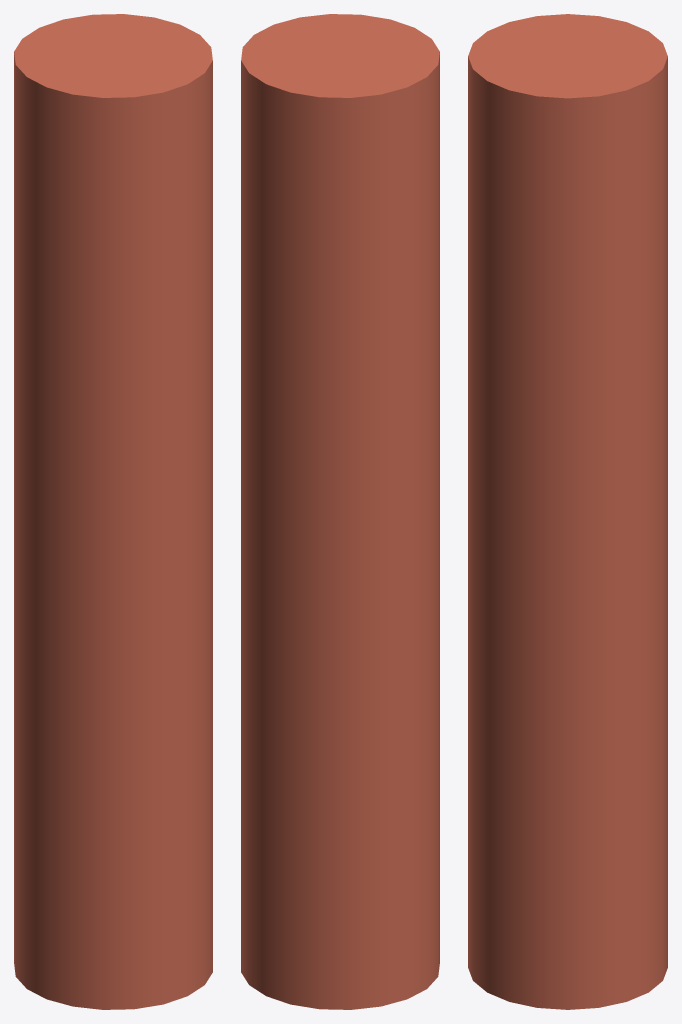
Rendered from CylinderTall.fbx.
3 renders of one model, left to right at view 1: azimuth 30°, elevation 25°; view 2: azimuth 150°, elevation 25°; view 3: azimuth 270°, elevation 25°, orthographic.
Parts seen in each view (by area): view 1: CylinderTall; view 2: CylinderTall; view 3: CylinderTall.
Part boxes in pixels (<box>): CylinderTall: <box>14,14,212,1009</box>; CylinderTall: <box>241,14,439,1009</box>; CylinderTall: <box>468,14,667,1009</box>.
Size of the model in its own units: 20.19 by 102 by 20.19.
